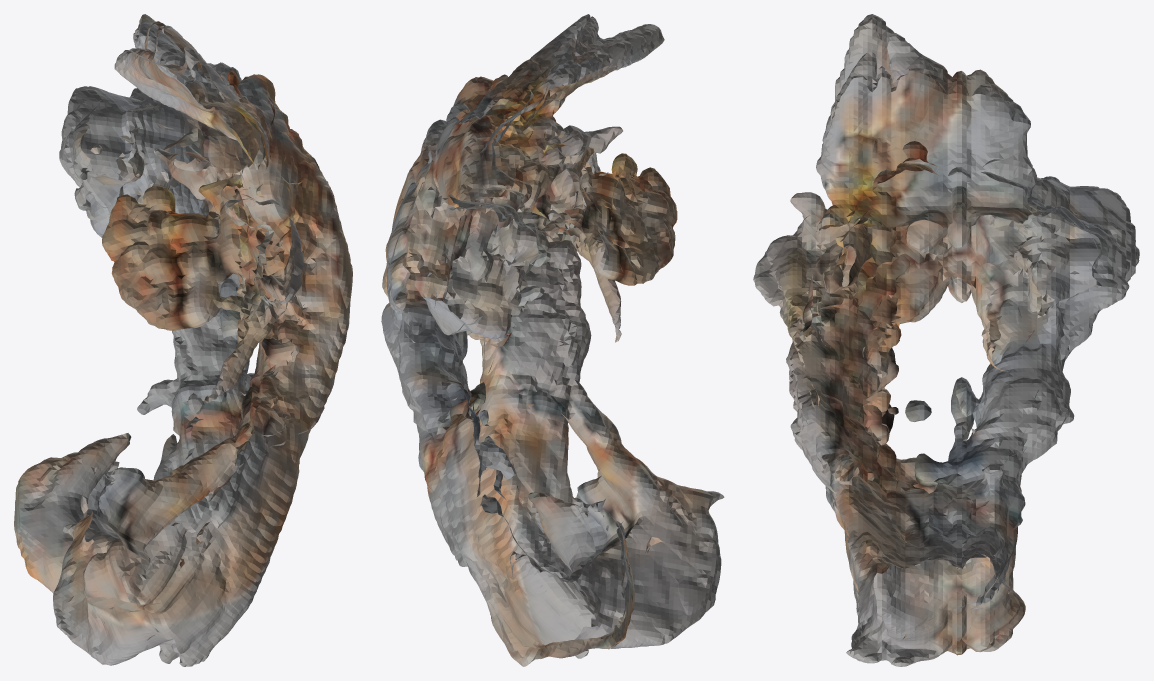
The model's file is creature-shrimp-full.glb.
The picture shows the model from 3 angles, left to right: view 1: azimuth 30°, elevation 25°; view 2: azimuth 150°, elevation 25°; view 3: azimuth 270°, elevation 25°; orthographic projection.
Visible parts, largest first — view 1: world; view 2: world; view 3: world.
Part boxes in pixels (left/top/right/bottom): world: left=14, top=14, right=352, bottom=666; world: left=381, top=14, right=724, bottom=666; world: left=753, top=14, right=1139, bottom=666.
Size of the model in its own units: 0.4552 by 1.01 by 0.5609.
